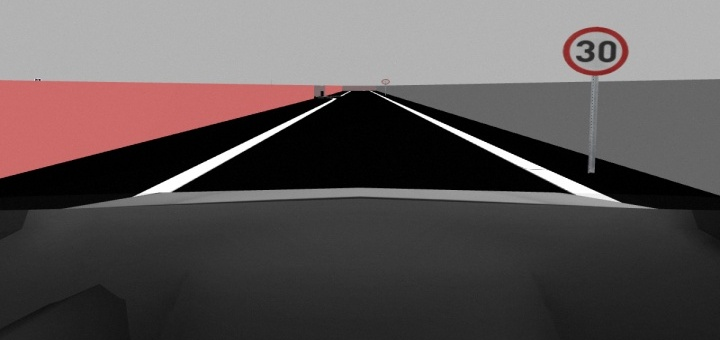hiz_30: (562, 25, 630, 76)
